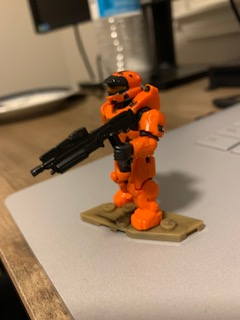rifle: (28, 109, 141, 180)
spartan: (100, 69, 171, 231)
